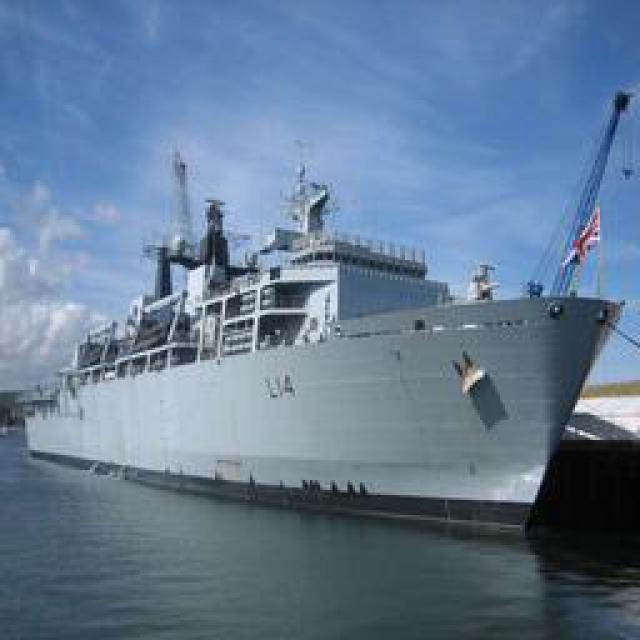Ship: (26, 89, 626, 522)
